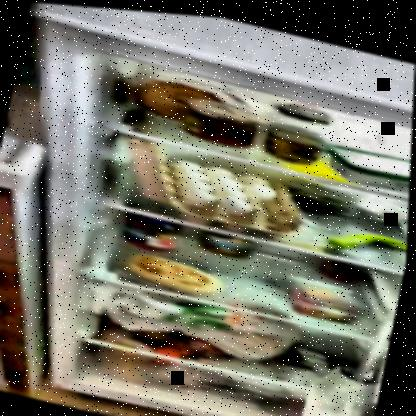cream_cheese: (329, 135, 411, 189)
eggs: (171, 155, 278, 217)
green_chillies: (316, 214, 408, 260)
tomato: (157, 338, 197, 358)
